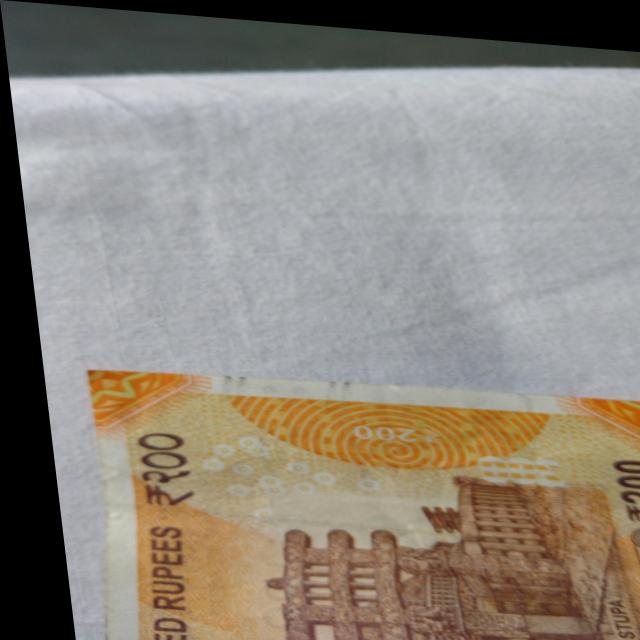Currency: (56, 341, 640, 640)
